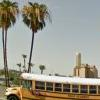Bus: (17, 69, 100, 99)
